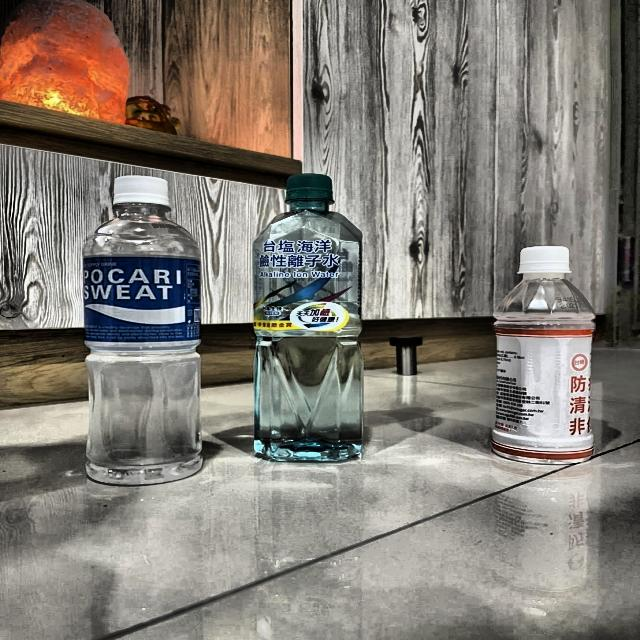Bottles: (58, 165, 222, 500), (237, 160, 379, 472), (476, 231, 618, 477)
